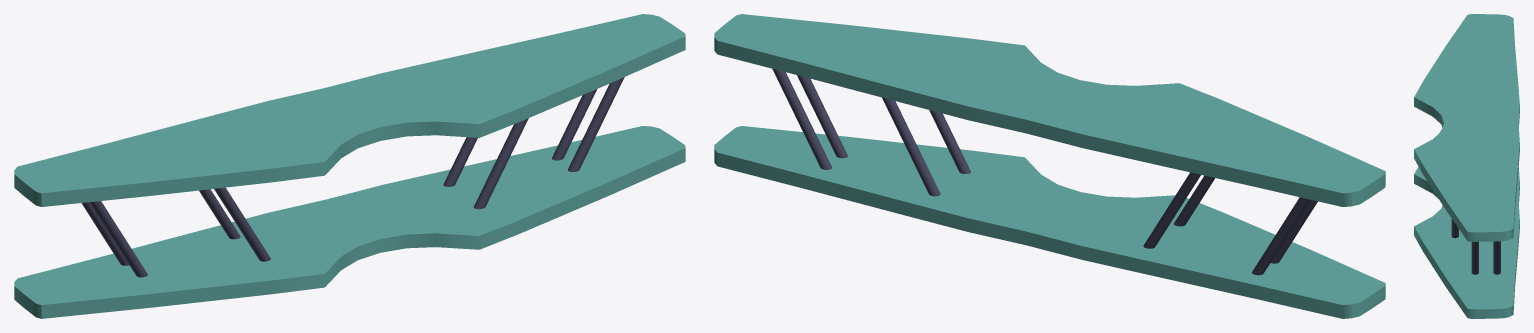
The model's file is SM_Wings.fbx.
3 renders of one model, left to right at view 1: azimuth 30°, elevation 25°; view 2: azimuth 150°, elevation 25°; view 3: azimuth 270°, elevation 25°, orthographic. The views are drawn at different scales.
Parts seen in each view (by area): view 1: SM_Wings; view 2: SM_Wings; view 3: SM_Wings.
Part boxes in pixels (x1,y1,x2,y2): SM_Wings: (14, 14, 685, 318); SM_Wings: (714, 14, 1385, 318); SM_Wings: (1414, 14, 1519, 318).
Size of the model in its own units: 726 by 134 by 149.
